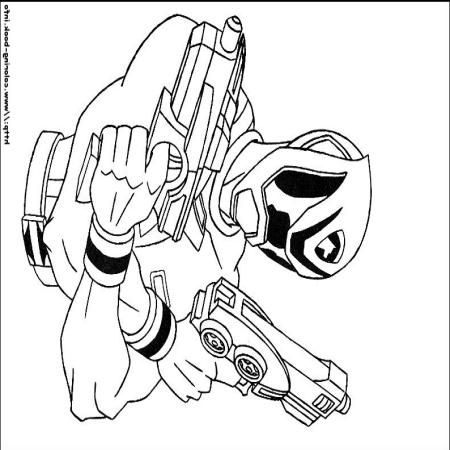Pistol: (73, 13, 249, 244), (184, 274, 352, 432)
